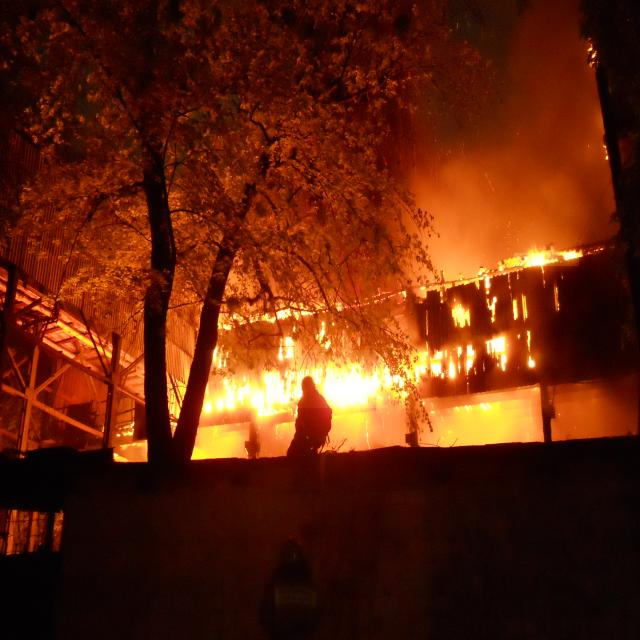Fire: (206, 350, 388, 408), (420, 317, 540, 374), (514, 253, 579, 266)
